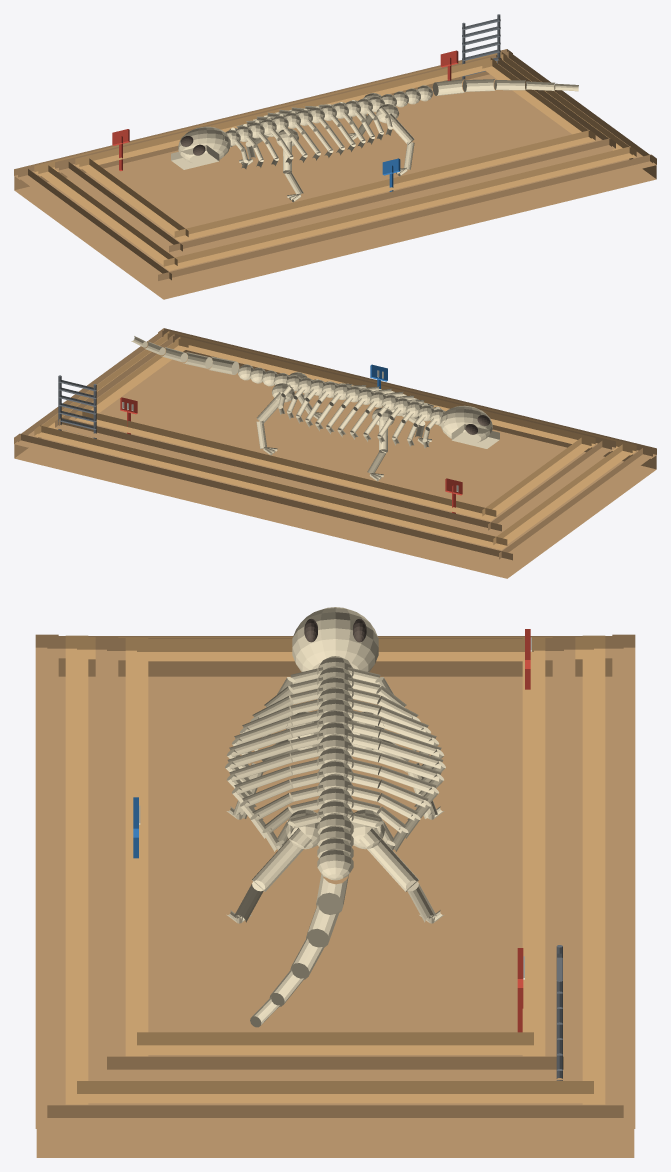
3 views of the same model, one above another, from view 1: azimuth 30°, elevation 25°; view 2: azimuth 150°, elevation 25°; view 3: azimuth 270°, elevation 25° (orthographic). The views are drawn at different scales.
Visible parts, largest first — view 1: sandstone, ochre, bone, metal, markerRed; view 2: sandstone, ochre, bone, metal, markerRed; view 3: sandstone, ochre, bone, metal, markerRed.
Boxes of the visible parts, x1,y1,x2,y2 form: sandstone: (14, 49, 656, 299); ochre: (34, 52, 636, 270); bone: (171, 79, 578, 202); metal: (462, 14, 500, 79); markerRed: (112, 50, 458, 171); sandstone: (14, 328, 656, 578); ochre: (34, 331, 636, 549); bone: (131, 336, 499, 481); metal: (58, 375, 96, 438); markerRed: (120, 397, 462, 513); sandstone: (35, 634, 635, 1157); ochre: (65, 635, 605, 1104); bone: (225, 607, 445, 1027); metal: (556, 945, 562, 1080); markerRed: (517, 629, 530, 1032).
Bounding box in the file's own units: 16 × 2.71 × 8.42.
